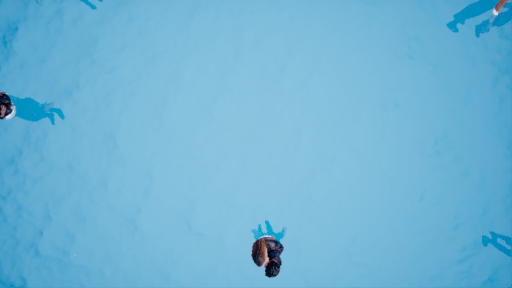person: (244, 219, 294, 277)
